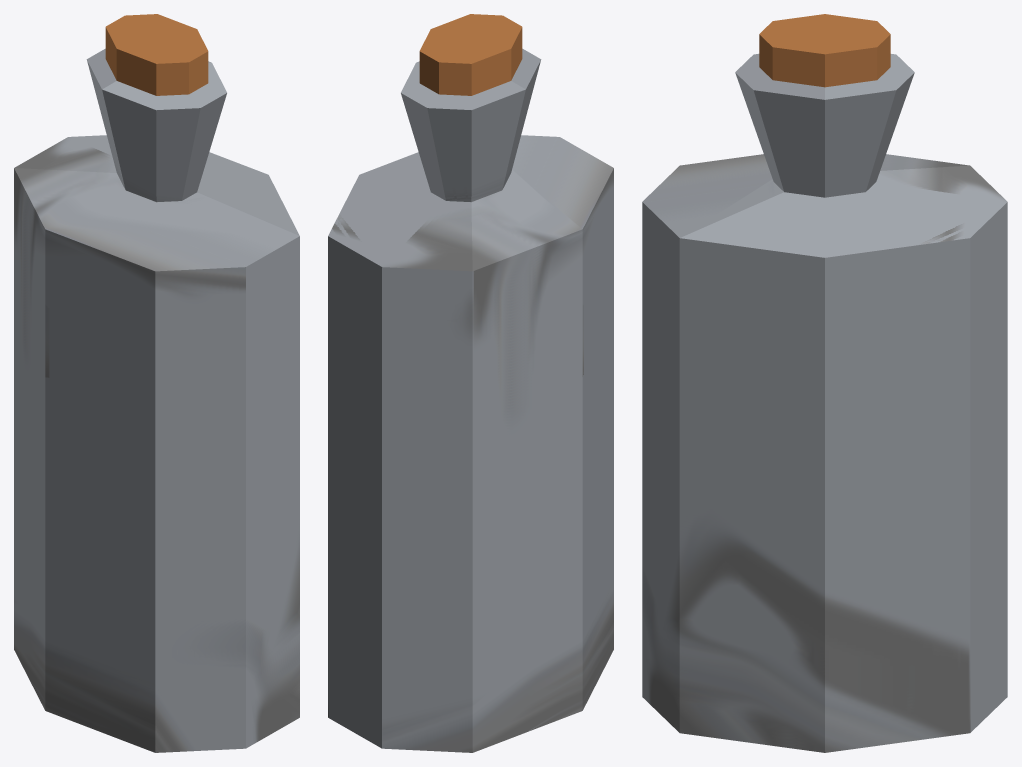
File: EmptyBottle.glb
3 renders of one model, left to right at view 1: azimuth 30°, elevation 25°; view 2: azimuth 150°, elevation 25°; view 3: azimuth 270°, elevation 25°, orthographic. The views are drawn at different scales.
Parts seen in each view (by area): view 1: Poison; view 2: Poison; view 3: Poison.
Part boxes in pixels (x1,y1,x2,y2): Poison: (14,14,299,752); Poison: (328,14,613,752); Poison: (642,14,1007,752).
Bounding box in the file's own units: 0.3539 × 0.9757 × 0.4877.
Materials: 2 (1 with a texture image).
